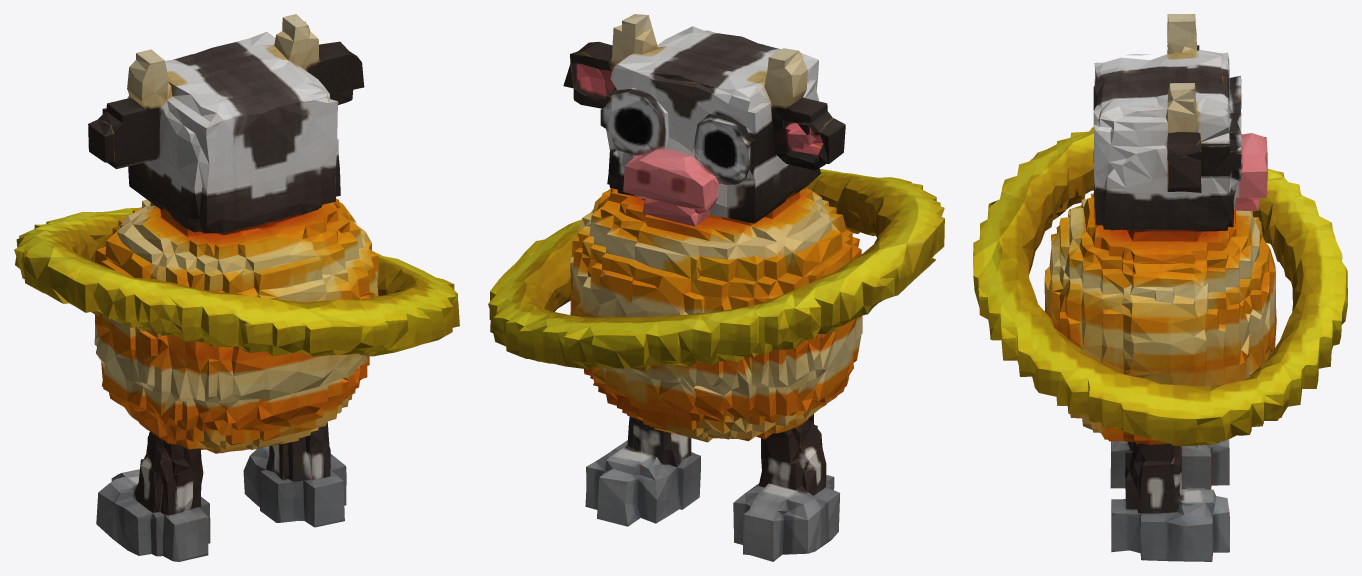
Rendered from LaVacaSaturnoSaturnita.glb.
3 renders of one model, left to right at view 1: azimuth 30°, elevation 25°; view 2: azimuth 150°, elevation 25°; view 3: azimuth 270°, elevation 25°, orthographic. The views are drawn at different scales.
Parts seen in each view (by area): view 1: geometry_0; view 2: geometry_0; view 3: geometry_0.
Part boxes in pixels (box(x1,y1,x2,y2)): geometry_0: box(14, 14, 459, 561); geometry_0: box(488, 14, 944, 561); geometry_0: box(973, 14, 1347, 561).
Size of the model in its own units: 0.8641 by 1 by 0.7368.
1 material, 1 textured.
